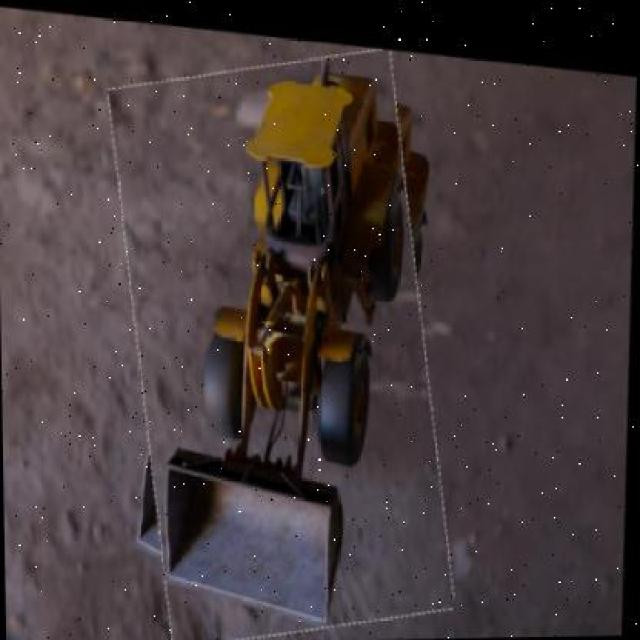buldozerpayloadergrader: (158, 59, 414, 628)
